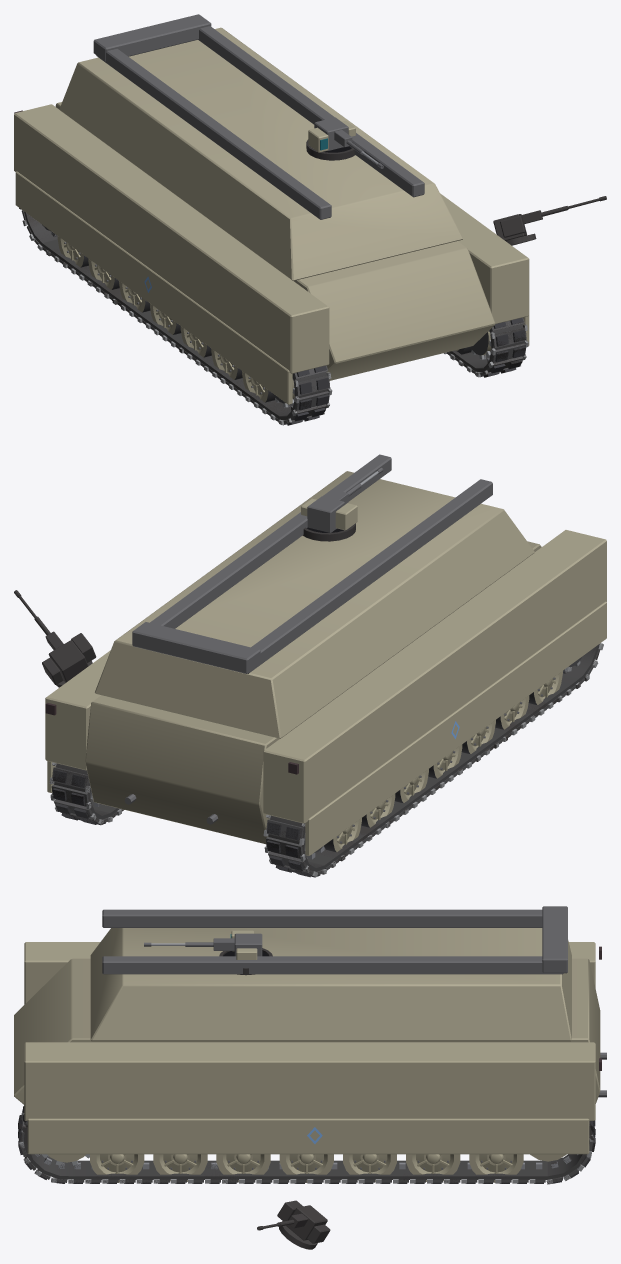
File: recoveryVehicle__apollo.glb
3 renders of one model, top to bottom at view 1: azimuth 30°, elevation 25°; view 2: azimuth 150°, elevation 25°; view 3: azimuth 270°, elevation 25°, orthographic. The views are drawn at different scales.
Parts seen in each view (by area): view 1: Hull_Mesh, Track_L_Mesh, Wreck, Track_R_Mesh, Turret_Mesh; view 2: Hull_Mesh, Track_L_Mesh, Wreck, Track_R_Mesh, Turret_Mesh; view 3: Hull_Mesh, Track_R_Mesh, Wreck, Wheel_R0_Mesh, Wheel_R3_Mesh, Wheel_R6_Mesh, Wheel_R5_Mesh, Wheel_R4_Mesh, Wheel_R1_Mesh, Wheel_R2_Mesh, Turret_Mesh, Gun_Mesh.
Part boxes in pixels (x1,y1,x2,y2): Hull_Mesh: (14,14,529,404); Track_L_Mesh: (19,208,332,425); Wreck: (19,139,606,423); Track_R_Mesh: (444,317,528,377); Turret_Mesh: (308,117,355,152); Hull_Mesh: (45,454,606,855); Track_L_Mesh: (263,643,603,877); Wreck: (14,523,600,874); Track_R_Mesh: (49,762,123,825); Turret_Mesh: (301,496,357,532); Hull_Mesh: (14,906,606,1154); Track_R_Mesh: (18,1105,595,1184); Wreck: (18,948,595,1249); Wheel_R0_Mesh: (469,1154,523,1182); Wheel_R3_Mesh: (279,1154,333,1182); Wheel_R6_Mesh: (90,1154,144,1182); Wheel_R5_Mesh: (153,1154,207,1181); Wheel_R4_Mesh: (216,1154,270,1182); Wheel_R1_Mesh: (406,1154,460,1181); Wheel_R2_Mesh: (343,1154,396,1182); Turret_Mesh: (230,930,262,959); Gun_Mesh: (144,938,234,950).
Size of what is drawn, in the model's own units: 6.33 by 2.78 by 7.32.
